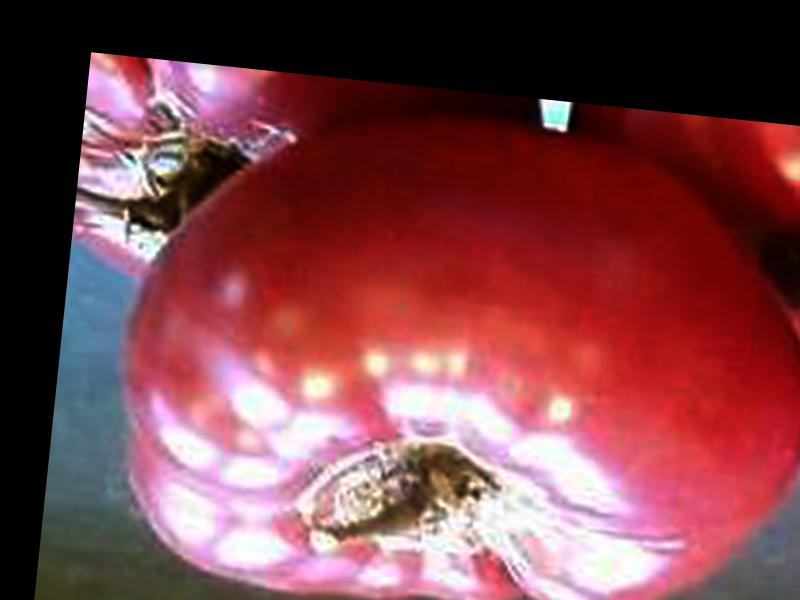Tomato: (98, 85, 800, 600)
